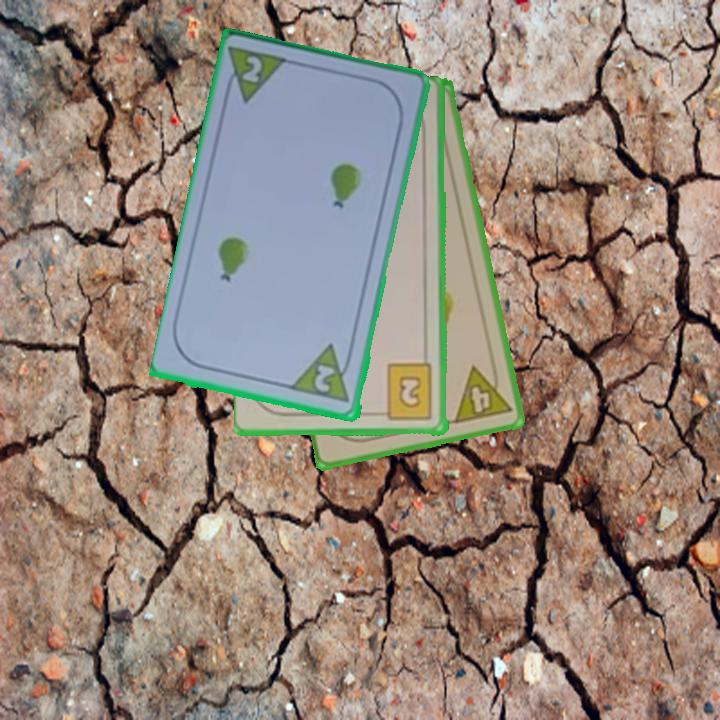2b: (375, 362, 436, 423)
2p: (220, 43, 292, 108), (290, 341, 356, 406)
4p: (450, 359, 514, 427)
